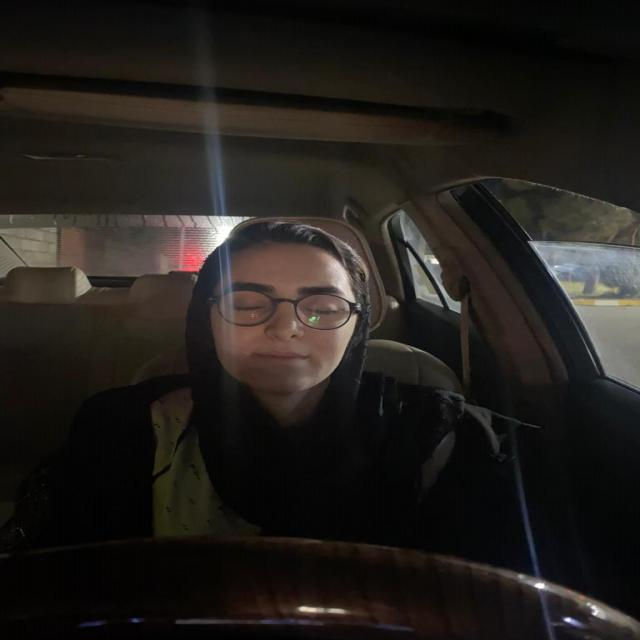drowsy: (188, 211, 390, 416)
